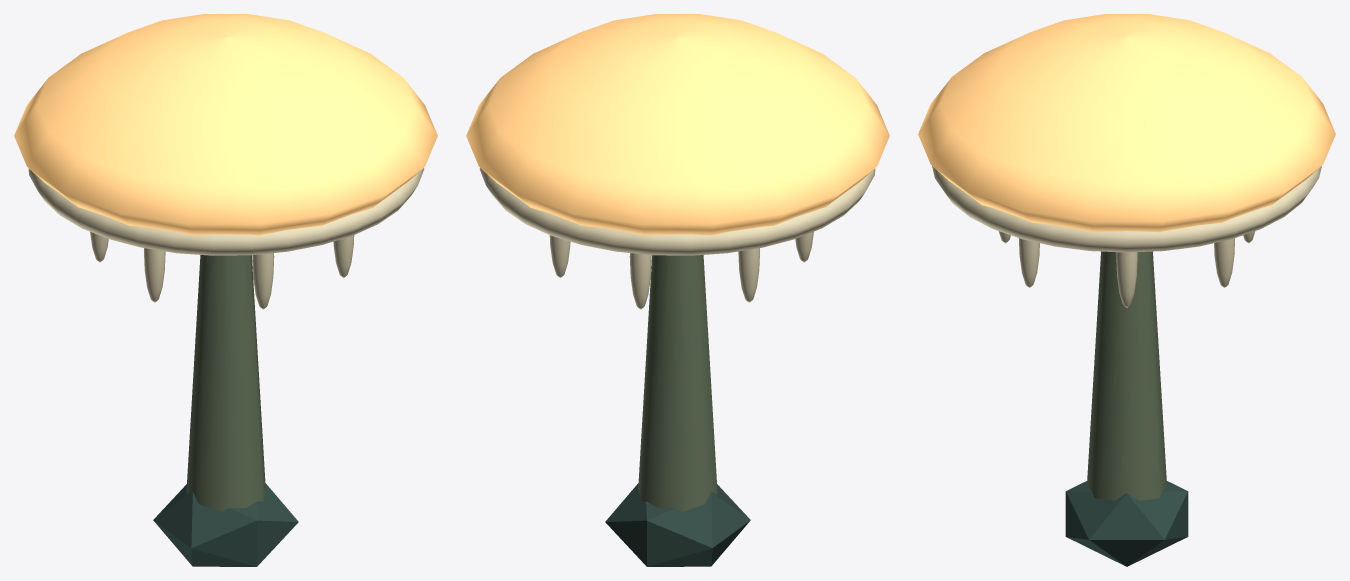
The model's file is spore-crown.glb.
3 renders of one model, left to right at view 1: azimuth 30°, elevation 25°; view 2: azimuth 150°, elevation 25°; view 3: azimuth 270°, elevation 25°, orthographic.
Parts seen in each view (by area): view 1: Vesper / spore-crown; view 2: Vesper / spore-crown; view 3: Vesper / spore-crown.
Boxes of the visible parts, left/top/right/bottom form: Vesper / spore-crown: left=14, top=14, right=437, bottom=566; Vesper / spore-crown: left=466, top=14, right=889, bottom=566; Vesper / spore-crown: left=918, top=14, right=1335, bottom=566.
Size of the model in its own units: 1.72 by 2.37 by 1.74.
